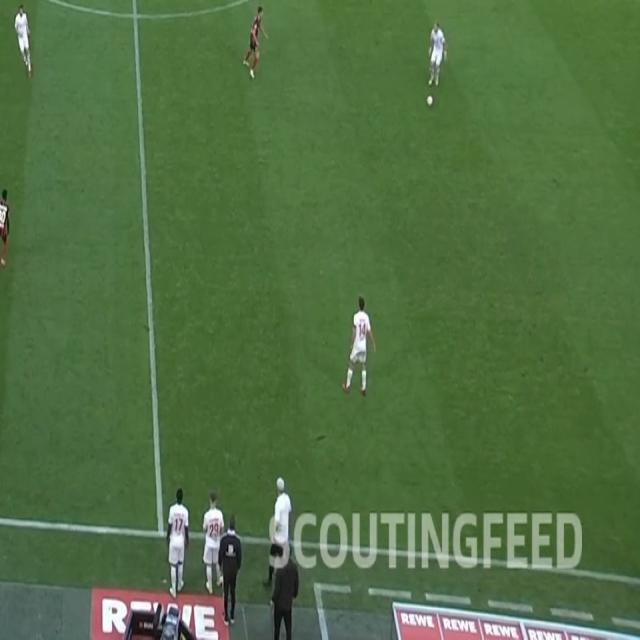ball: (426, 94, 434, 107)
